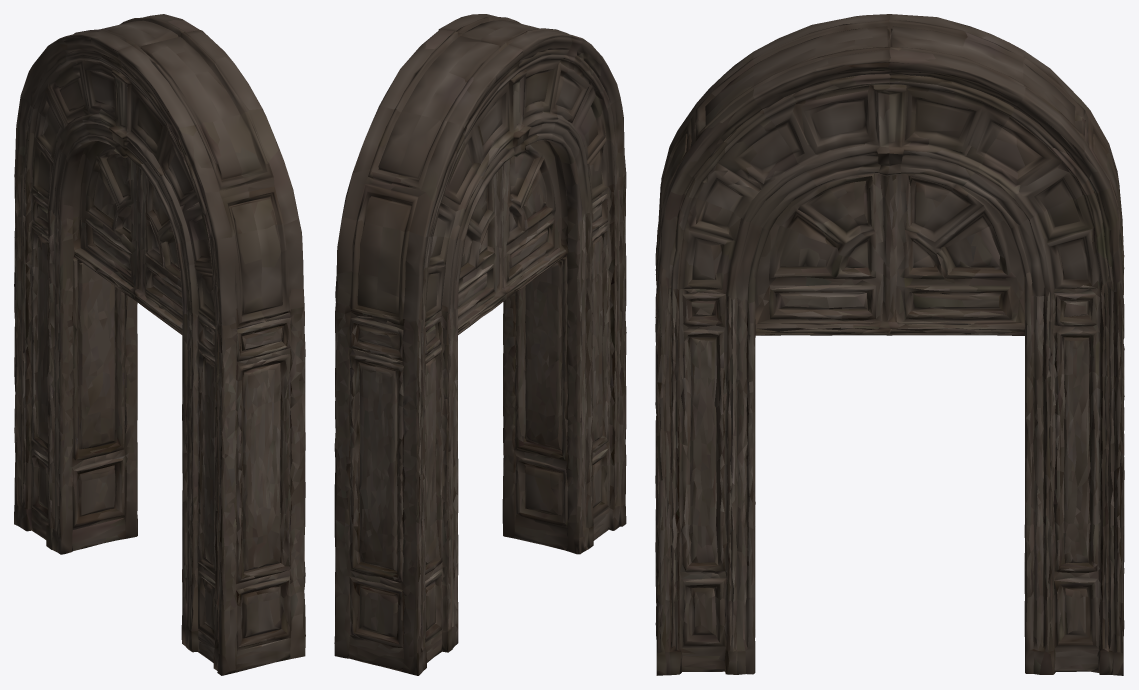
File: SM_DaMen01a_f63715.glb
3 renders of one model, left to right at view 1: azimuth 30°, elevation 25°; view 2: azimuth 150°, elevation 25°; view 3: azimuth 270°, elevation 25°, orthographic. The views are drawn at different scales.
Parts seen in each view (by area): view 1: SM_DaMen01a; view 2: SM_DaMen01a; view 3: SM_DaMen01a.
Part boxes in pixels (bbox=[...]): SM_DaMen01a: bbox=[14, 14, 305, 675]; SM_DaMen01a: bbox=[334, 14, 626, 675]; SM_DaMen01a: bbox=[655, 14, 1124, 675].
Bounding box in the file's own units: 0.1734 × 1.02 × 0.7029.
Materials: 1 (1 with a texture image).
